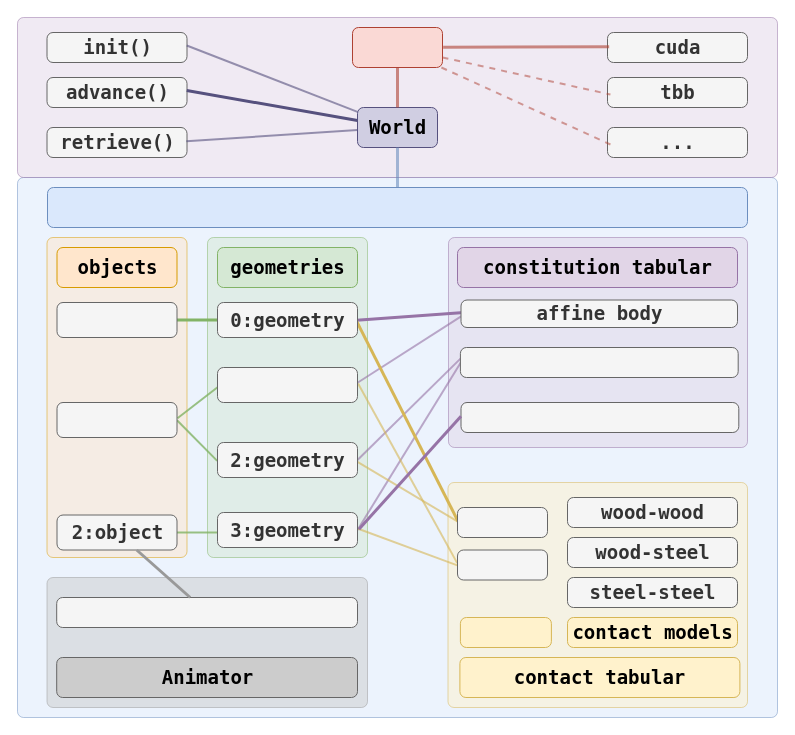
Image size: 795x735. Some labels were removed from this diagram. Here are the shapes that lost their labels. From the top down, the centre of each, then its label:
[397,47]: Engine
[397,207]: scene
[116,320]: 0:object
[598,362]: stable neo-hookean
[287,384]: 1:geometry
[116,420]: 1:object
[599,417]: position constraint
[502,522]: wood
[502,564]: steel
[207,612]: 0:Animation
[505,632]: element
